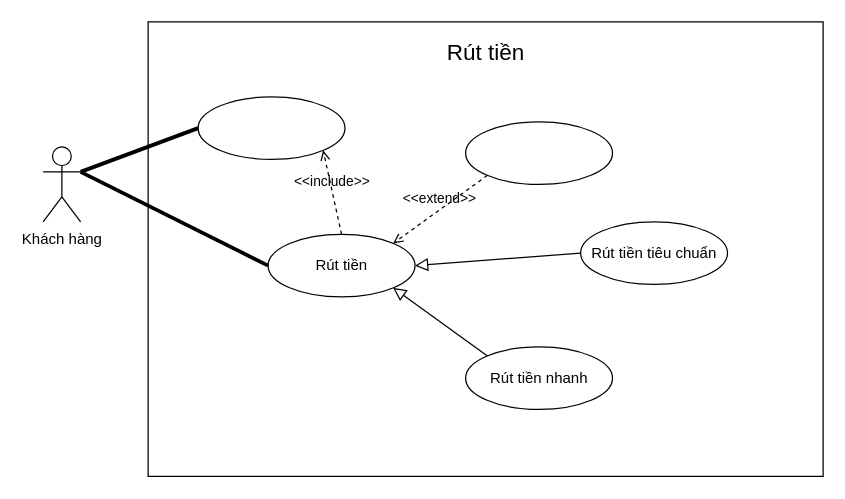
The diagram is 845 pixels wide and 499 high, and some of its shapes have lost their labels. Each missing label, with the box of its shape:
In hóa đơn giao dịch: (464, 121, 612, 184)
Đăng nhập: (197, 96, 345, 159)
